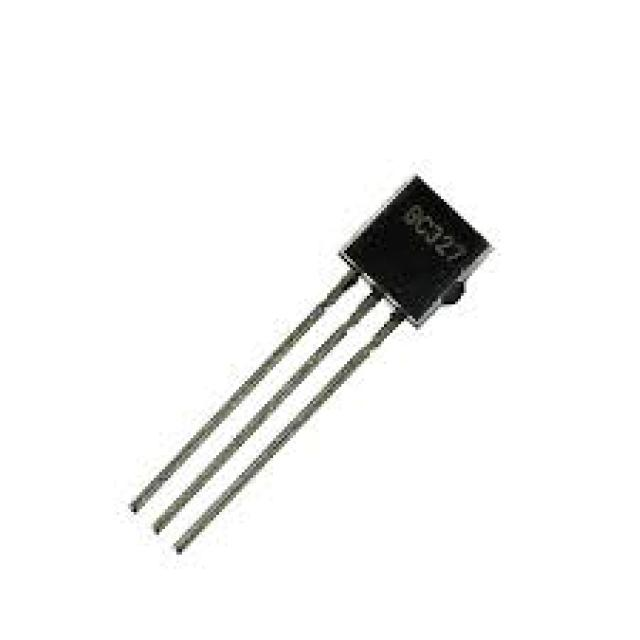Transistor: (126, 170, 486, 554)
